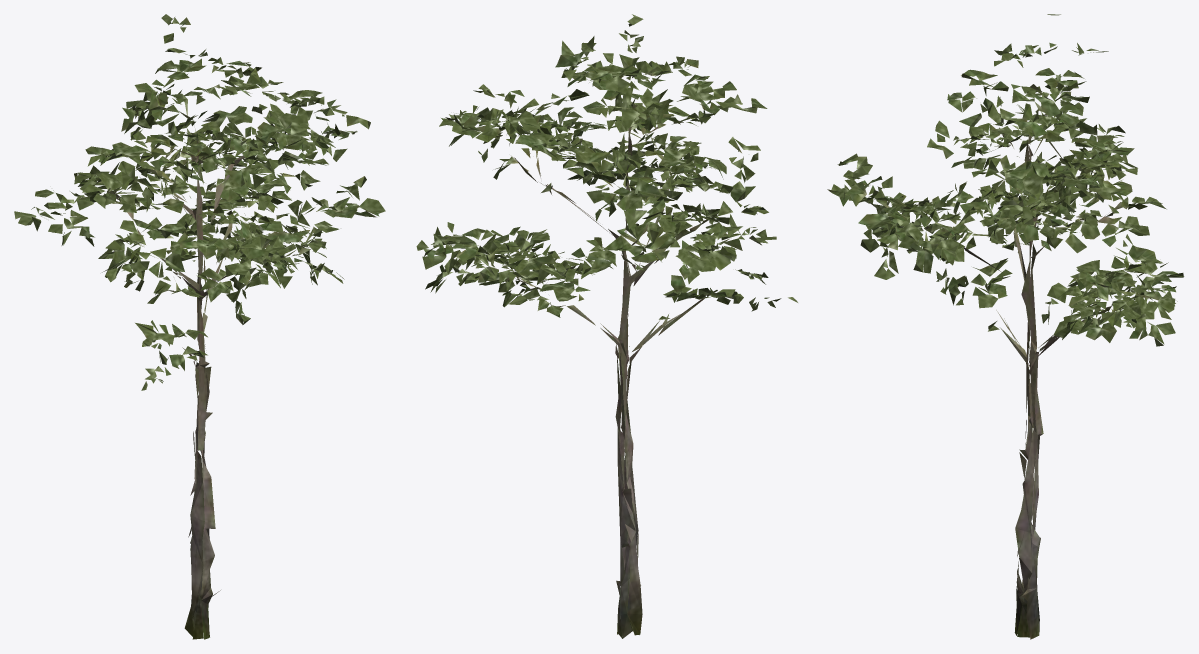
File: acacia_espinhosa_broto.glb
3 views of the same model, side by side, from view 1: azimuth 30°, elevation 25°; view 2: azimuth 150°, elevation 25°; view 3: azimuth 270°, elevation 25° (orthographic). The views are drawn at different scales.
Parts seen in each view (by area): view 1: geometry_0; view 2: geometry_0; view 3: geometry_0.
Part boxes in pixels (x1,y1,x2,y2): geometry_0: (14, 14, 385, 639); geometry_0: (416, 14, 797, 638); geometry_0: (827, 14, 1184, 639).
Bounding box in the file's own units: 0.5491 × 0.9978 × 0.5265.
1 material, 1 textured.
